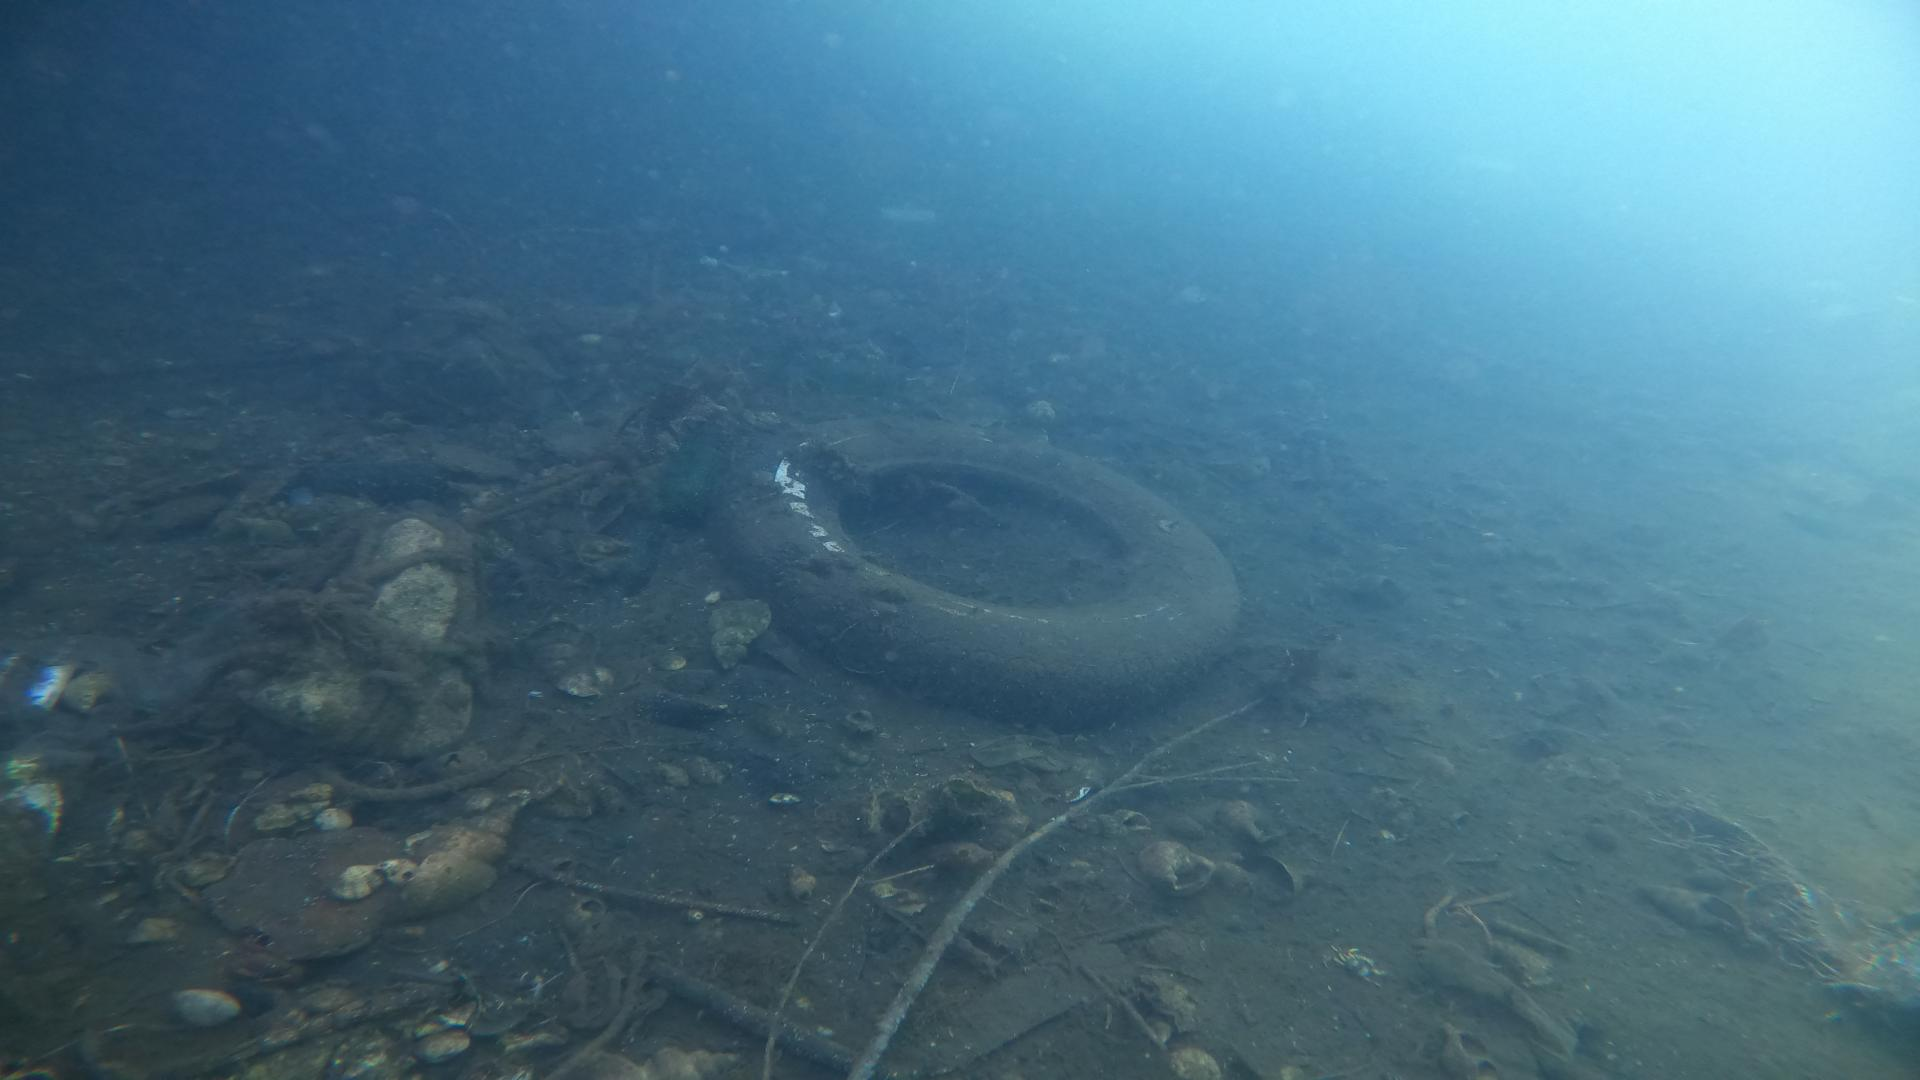tire: (724, 404, 1247, 721)
